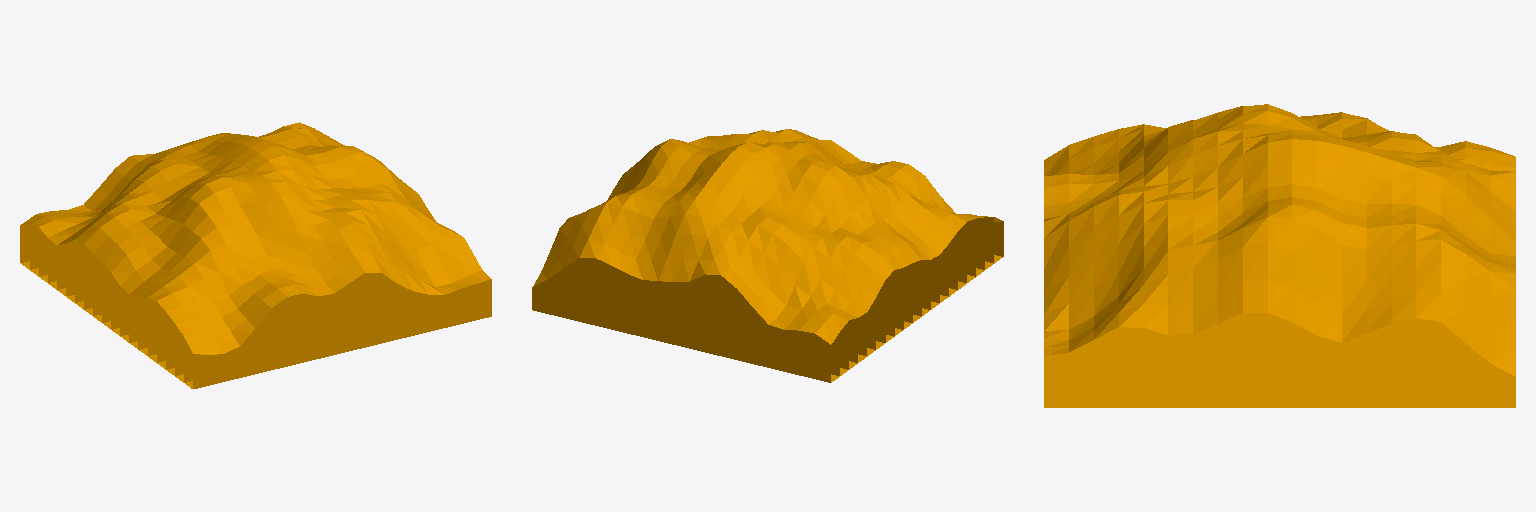
URDF robot description (mountain):
<?xml version="1.0"?>
<robot name="mountain">
  <link name="baseLink">
    <inertial>
      <origin xyz="0 0 0" rpy="0 0 0"/>
      <mass value="1"/>
      <inertia ixx="1" ixy="0" ixz="0" iyy="1" iyz="0" izz="1"/>
    </inertial>
    <visual>
      <origin xyz="0 0 0" rpy="0 0 0"/>
      <geometry>
        <mesh filename="my_less_steep_gaussian_pyramid.obj" scale="1 1 1"/>
      </geometry>
    </visual>
    <collision>
      <origin xyz="0 0 0" rpy="0 0 0"/>
      <geometry>
        <mesh filename="my_less_steep_gaussian_pyramid.obj" scale="1 1 1"/>
      </geometry>
    </collision>
  </link>
</robot>

--- Facts derived from the render (not from the file) ---
The picture shows the robot from 3 angles, left to right: view 1: azimuth 30°, elevation 25°; view 2: azimuth 150°, elevation 25°; view 3: azimuth 270°, elevation 25°; orthographic projection.
Robot: mountain — 1 links, 0 joints (none); root link baseLink; default pose: every joint at zero.
Links seen in each view (by area): view 1: baseLink; view 2: baseLink; view 3: baseLink.
Link boxes in pixels (<box>): baseLink: <box>20,122,491,388</box>; baseLink: <box>532,129,1003,382</box>; baseLink: <box>1044,104,1515,407</box>.
Size in the robot's own frame: 9.5 by 9.5 by 4.12 metres.
Meshes: 1 distinct files referenced, 1 mesh visuals loaded (1 OBJ).
